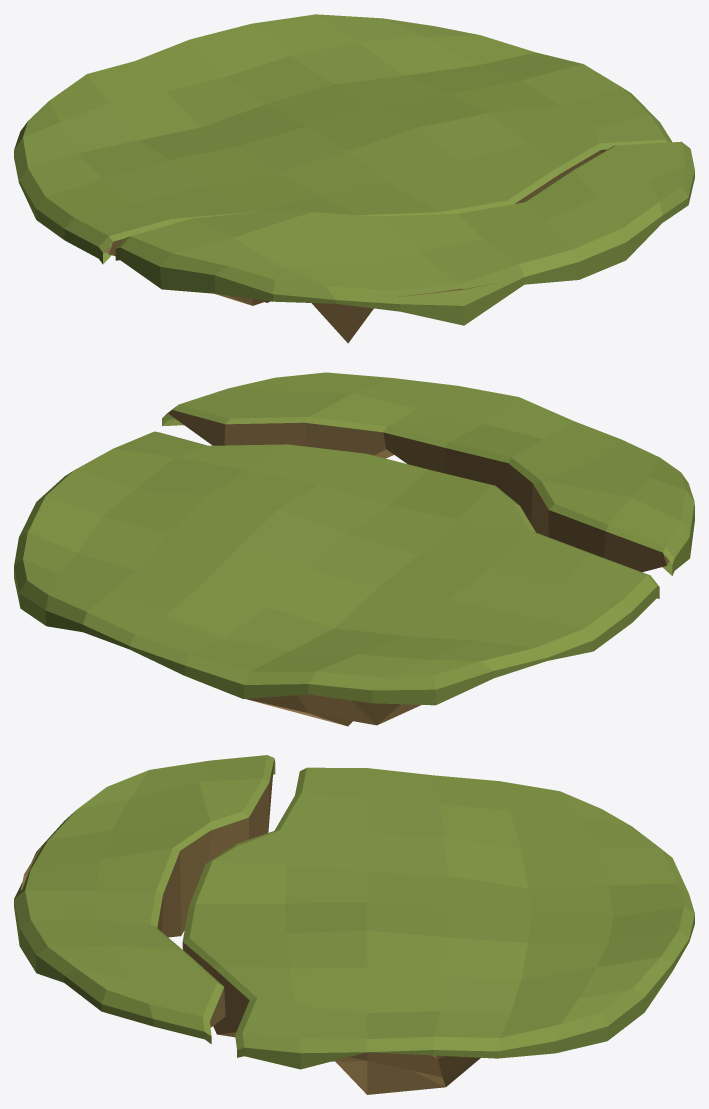
Rendered from plateforme_petit_1_v3.fbx.
The picture shows the model from 3 angles, top to bottom: view 1: azimuth 30°, elevation 25°; view 2: azimuth 150°, elevation 25°; view 3: azimuth 270°, elevation 25°; orthographic projection.
Parts seen in each view (by area): view 1: Plane.006; view 2: Plane.006; view 3: Plane.006.
Boxes of the visible parts, x1,y1,x2,y2 form: Plane.006: (14, 14, 694, 343); Plane.006: (14, 372, 694, 726); Plane.006: (14, 755, 694, 1094).
Size of the model in its own units: 246 by 89.92 by 256.
